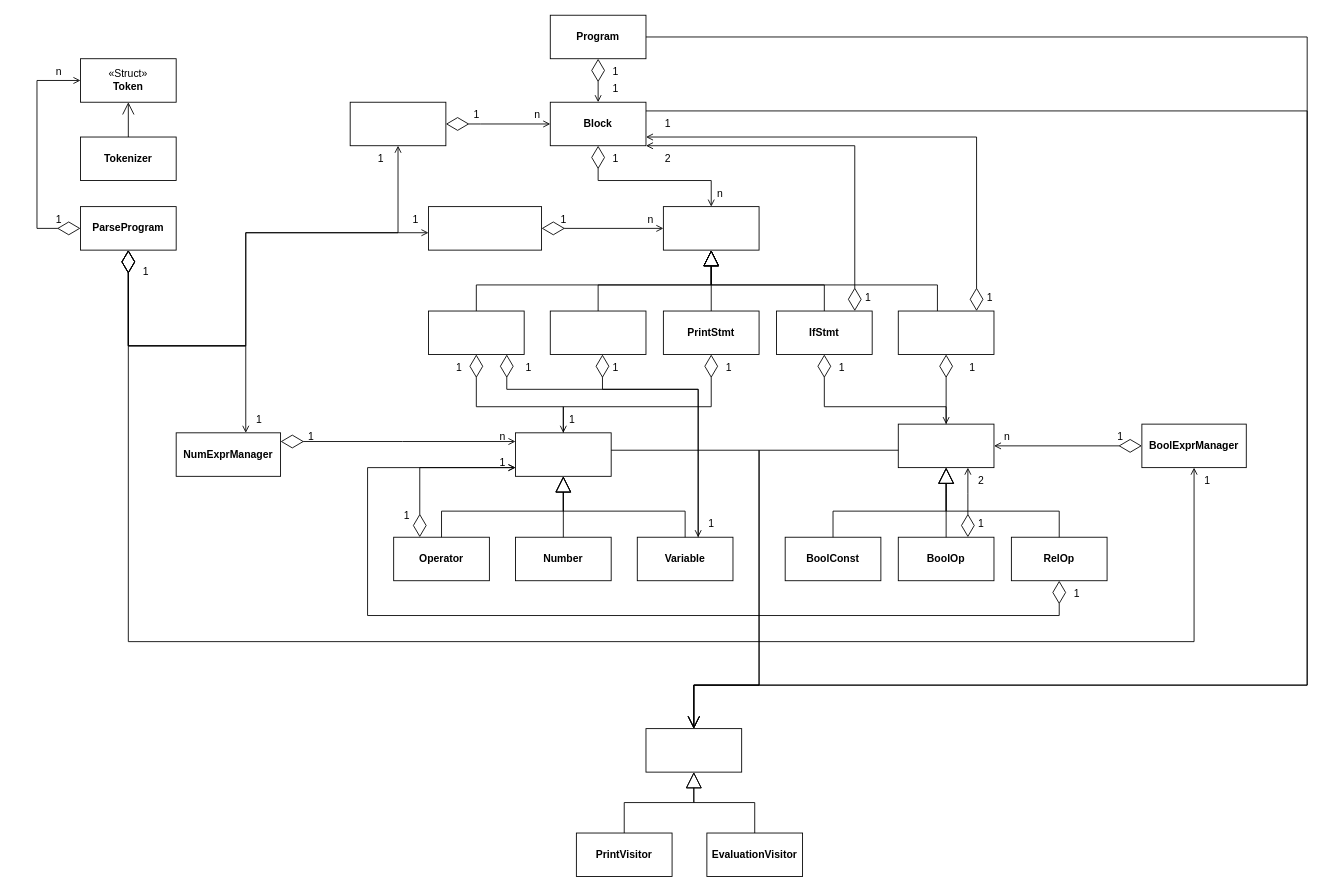
This 1335x892 diagram has some shape labels left out. Here are the shapes that lost their labels. From the top down, the box of each, then its label:
(349, 101, 446, 146): BlockManager
(428, 206, 542, 250): StatementManager
(663, 206, 759, 250): Statement
(428, 310, 524, 355): SetStmt
(549, 310, 646, 355): InputStmt
(897, 310, 994, 355): WhileStmt
(515, 432, 611, 476): NumExpr
(897, 423, 994, 468): BoolExpr
(645, 728, 742, 772): Visitor
